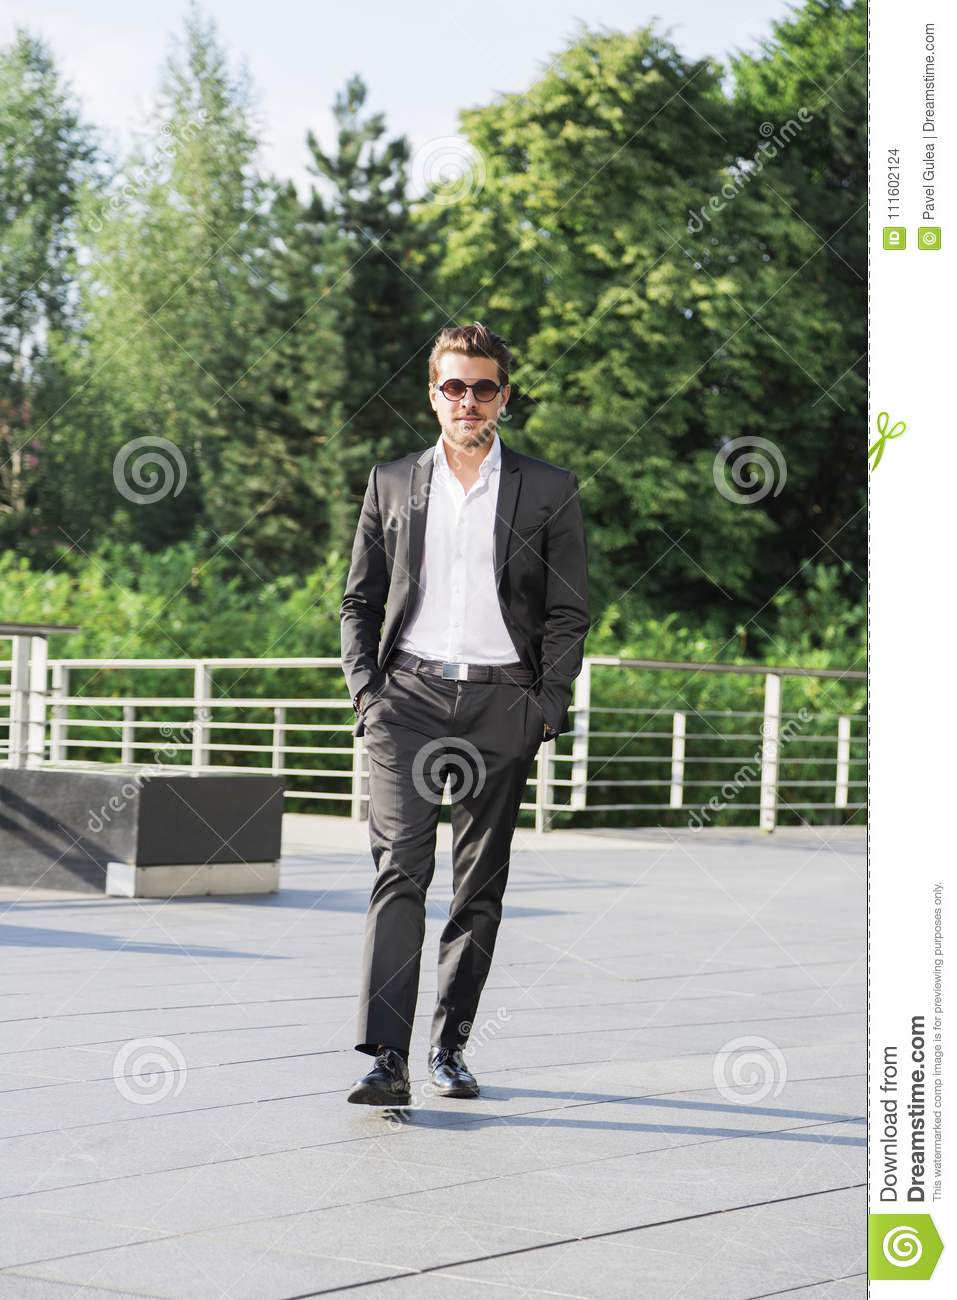feet: (339, 1011, 498, 1117)
